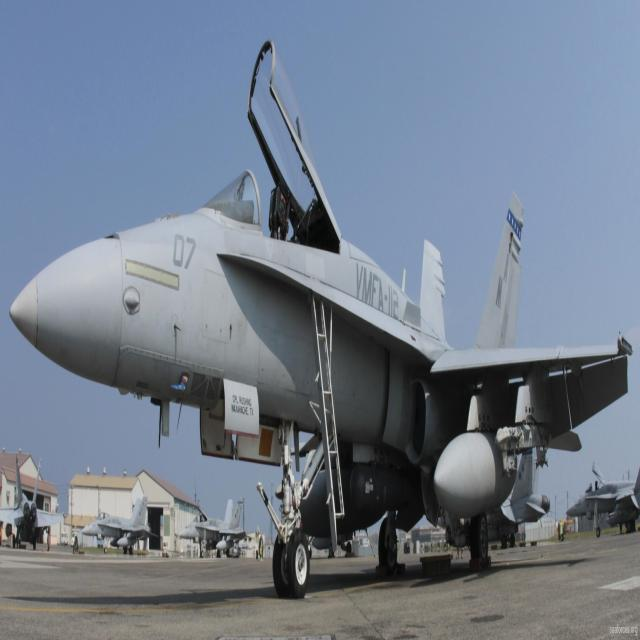MIL_Plane: (9, 38, 634, 600), (437, 446, 558, 550), (565, 461, 640, 538), (178, 497, 255, 558), (81, 496, 158, 554), (0, 468, 65, 536), (234, 542, 252, 554)
